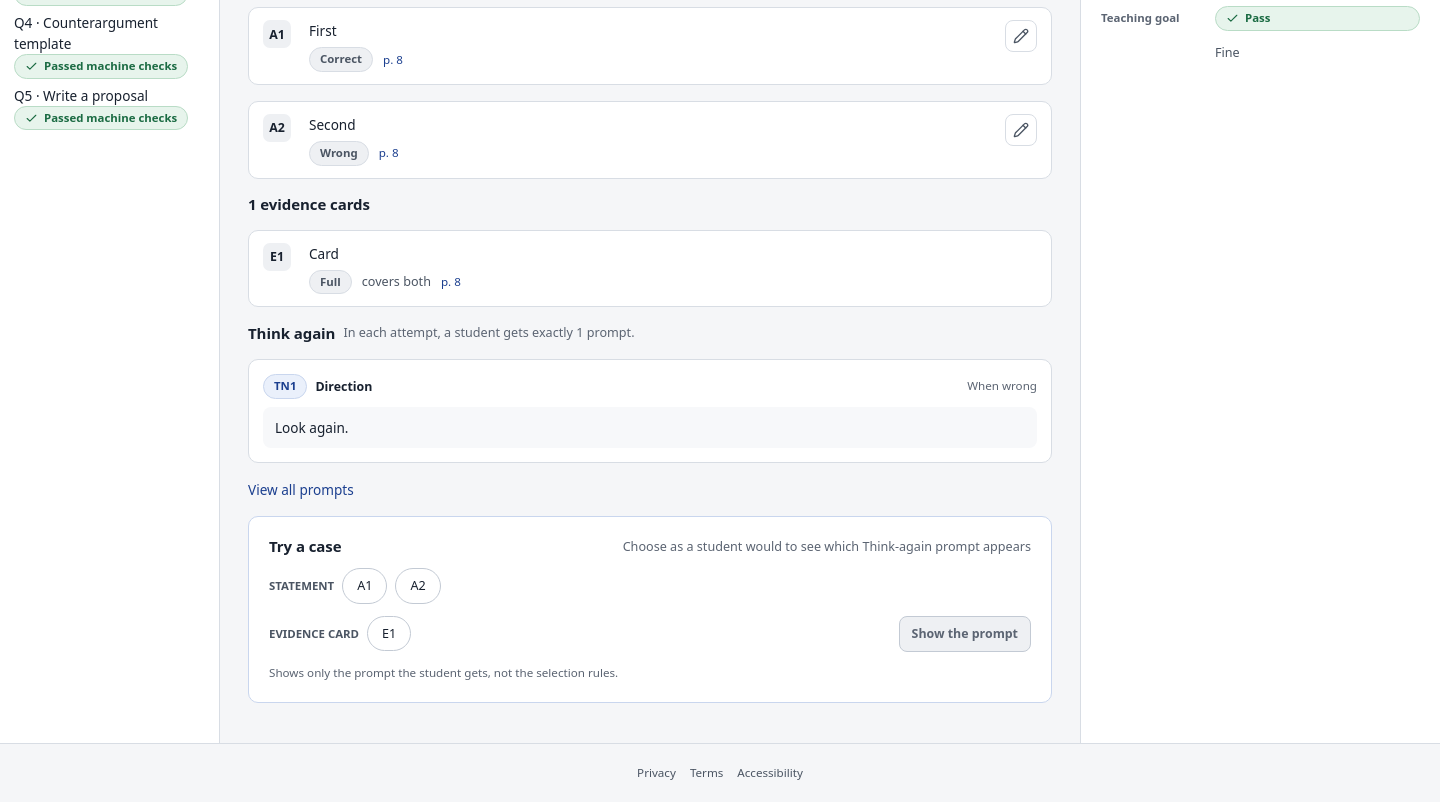
Test case: T7, T9 and T11 › try a case shows the prompt without any rule detail
The width and height of the screenshot is (1440, 802).
(page scrolled)
Click the button "A1" at x=365, y=586, box [342,568,388,604]
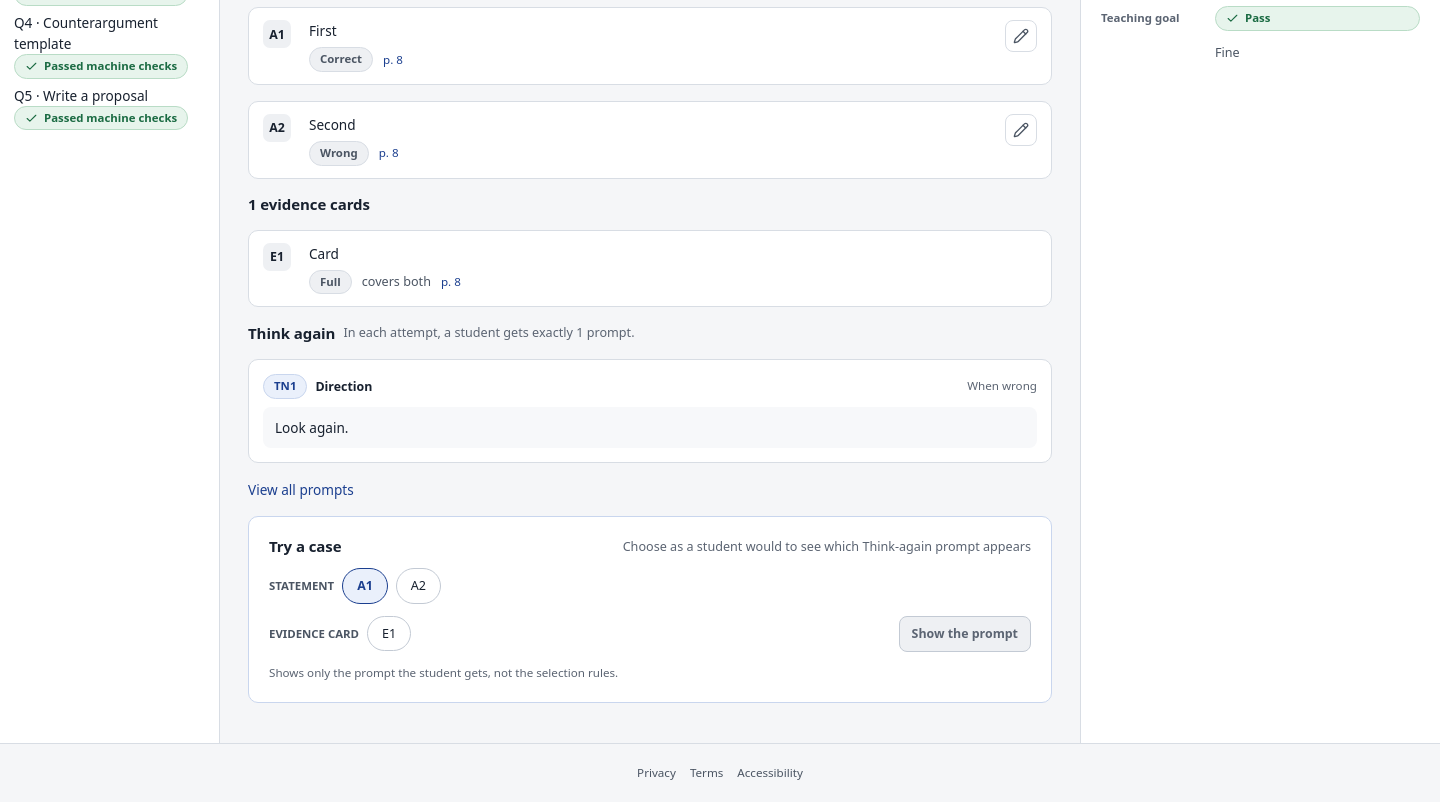
Click the button "E1" at x=389, y=634, box [367,616,411,651]
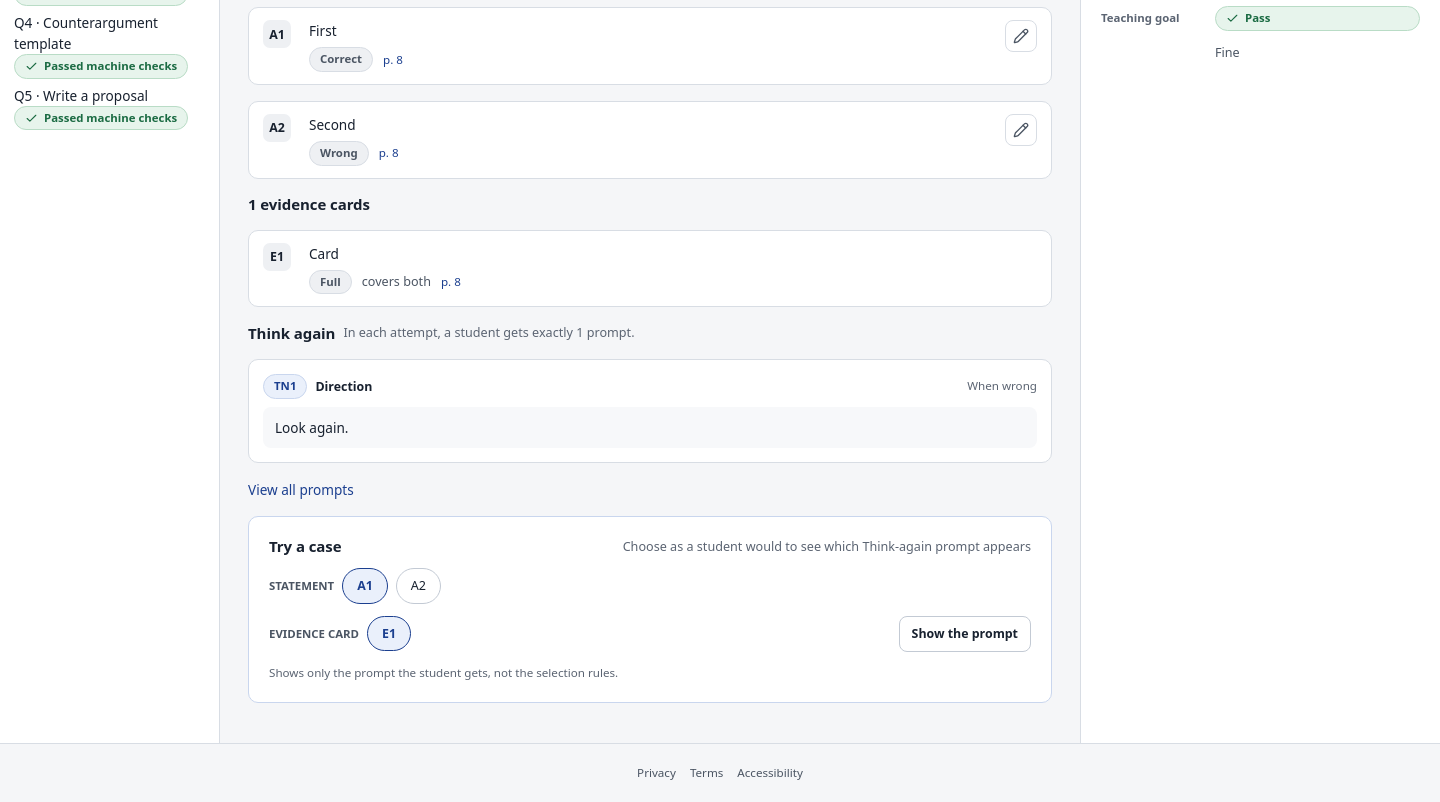
Click the button "Show the prompt" at x=965, y=634, box [899,616,1031,652]
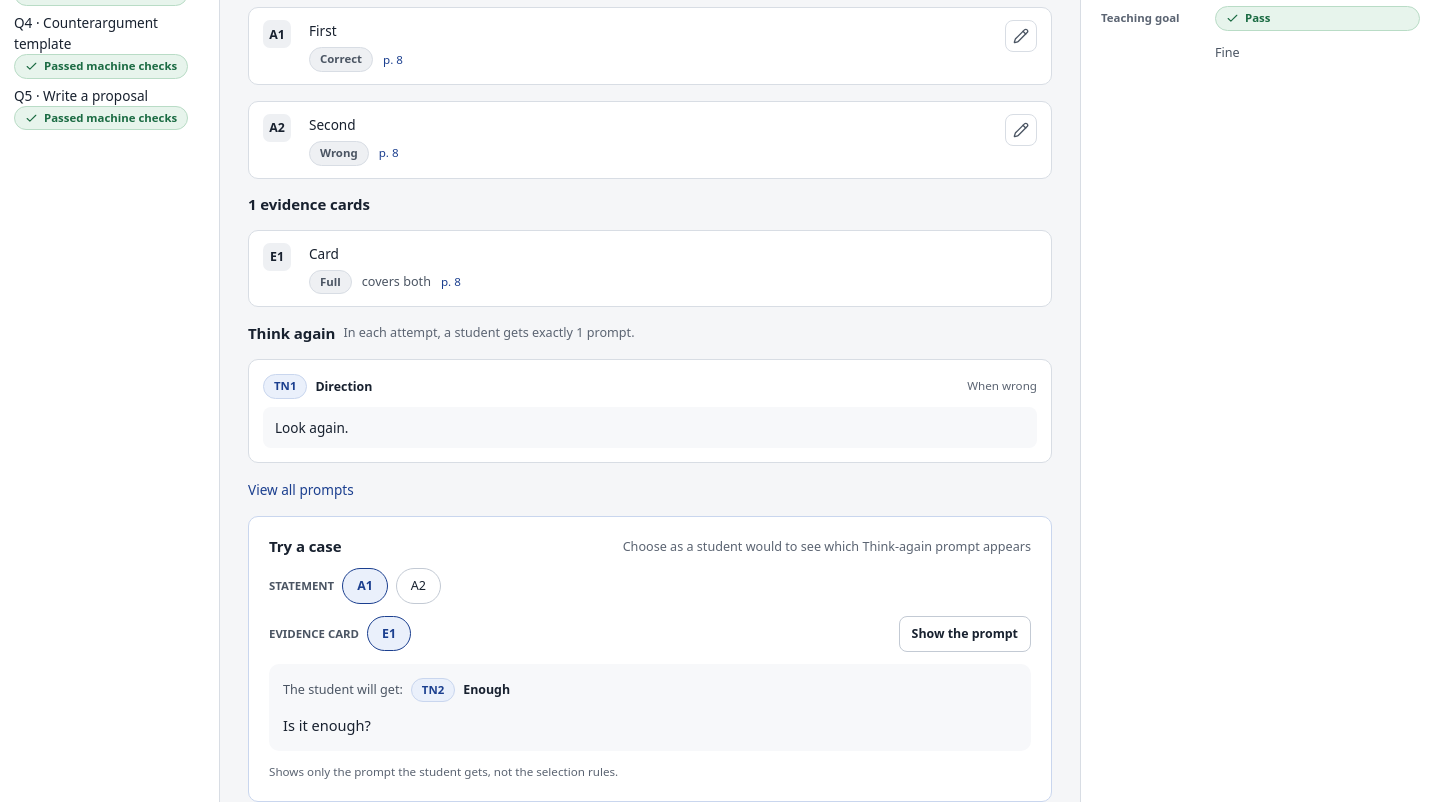
Expected: the text "Shows only the prompt the student gets, not the selection rules." is shown, [269,764,618,779]
Expected: the text "Is it enough?" is shown, [283,716,371,736]
